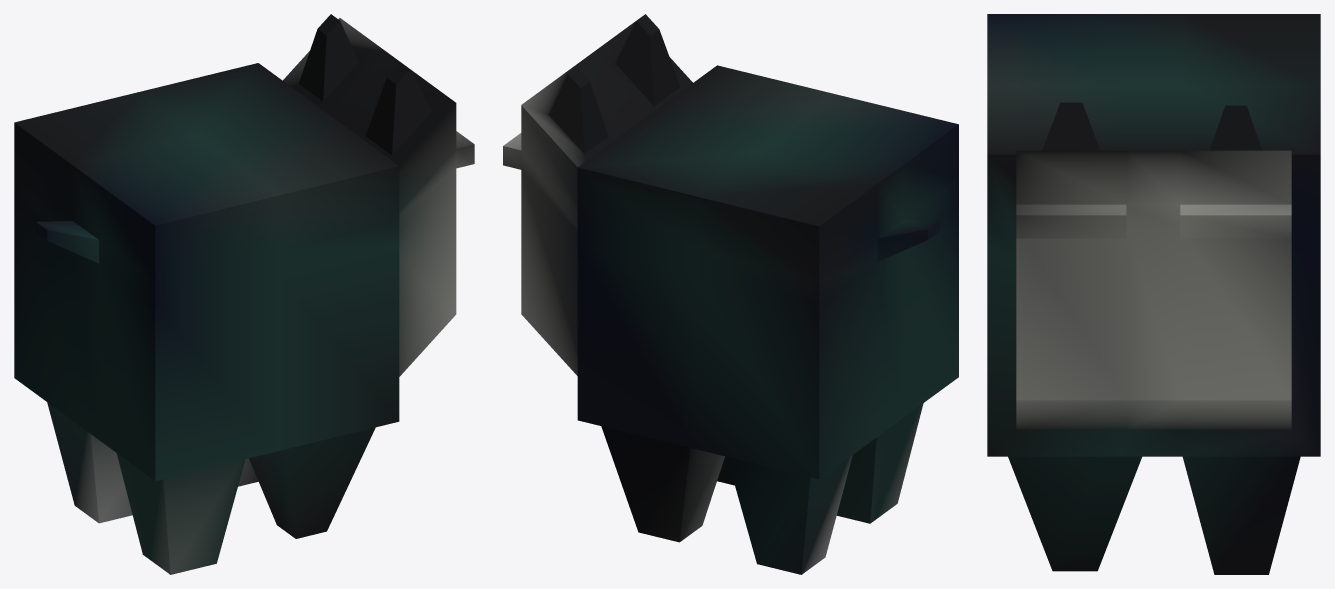
The model's file is pet.fbx.
3 views of the same model, side by side, from view 1: azimuth 30°, elevation 25°; view 2: azimuth 150°, elevation 25°; view 3: azimuth 270°, elevation 25° (orthographic). The views are drawn at different scales.
Visible parts, largest first — view 1: Cube; view 2: Cube; view 3: Cube.
Part boxes in pixels (x1,y1,x2,y2): Cube: [14, 14, 474, 574]; Cube: [503, 14, 958, 574]; Cube: [987, 14, 1320, 574].
Bounding box in the file's own units: 308 × 346 × 200.
